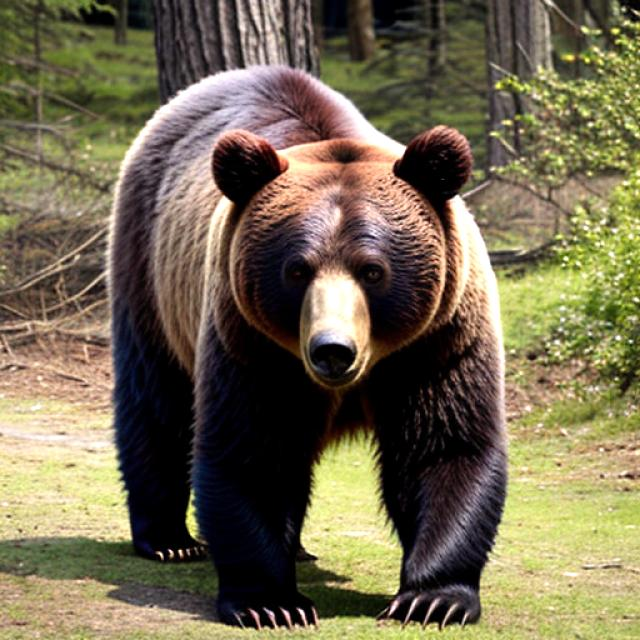bear: (102, 50, 506, 616)
